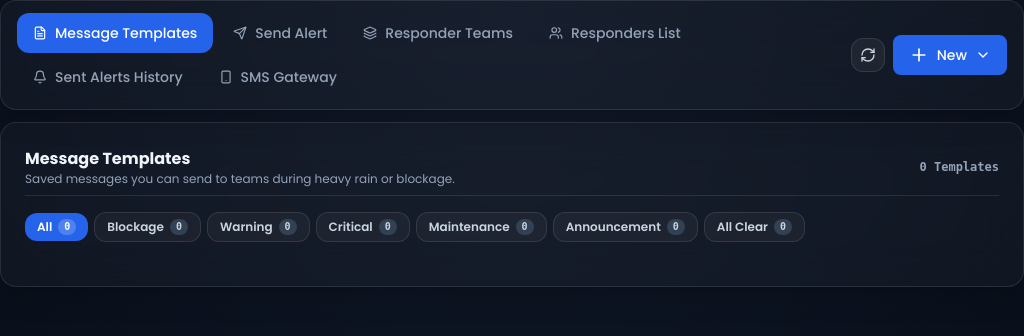
Test: RespondersView Component › switches to Responder Teams tab with simplified description
The width and height of the screenshot is (1024, 336).
Click the button "Responder Teams" at (438, 33), box [347,13,529,53]
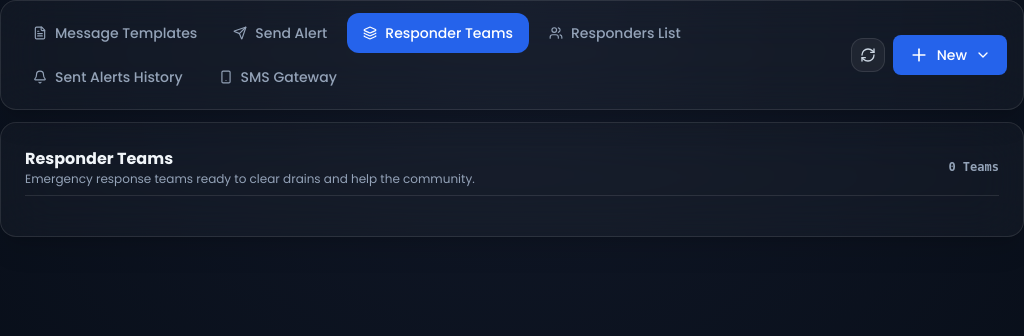
Now the heading "Responder Teams" is shown, box [25,147,173,170]
Now the text "Emergency response teams ready to clear drains and help the community." is shown, box [25,171,475,187]
